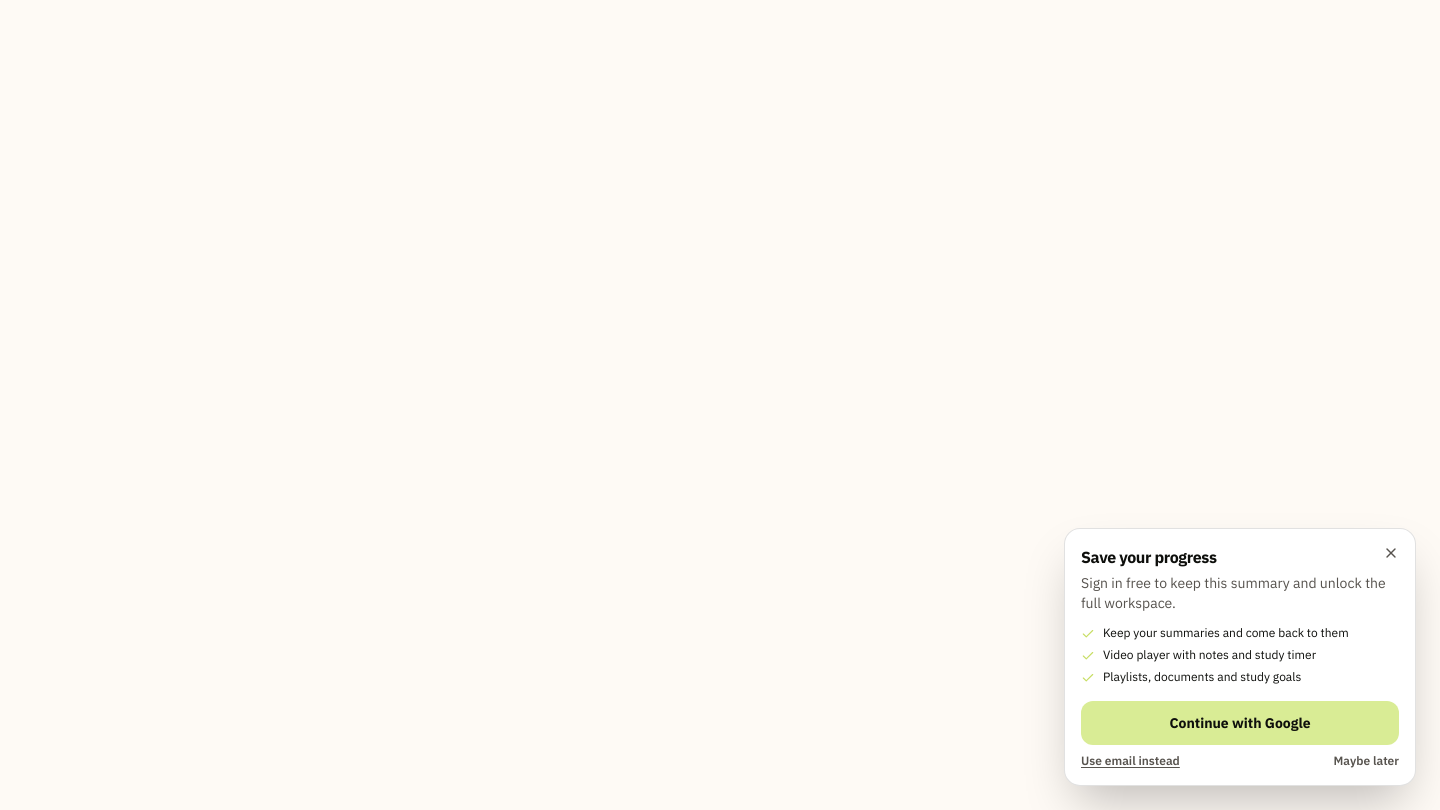
Scenario: the sign-in card › shows a readable message when sign-in fails and lets them try again
Click the button "Continue with Google".
click(1240, 723)  # box [1081,701,1399,745]
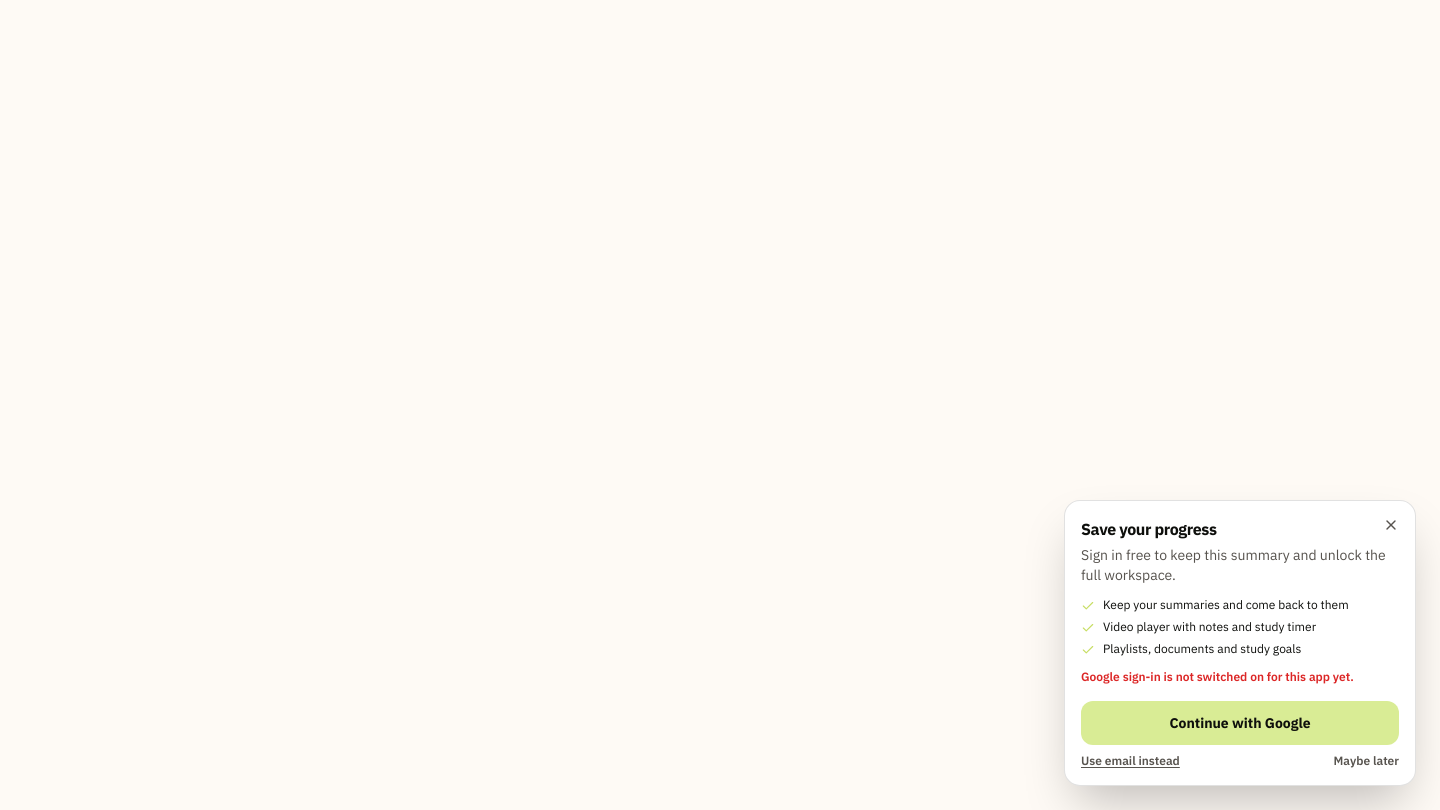
Now the message "Google sign-in is not switched on for this app yet." is shown, box [1081,669,1399,685]
